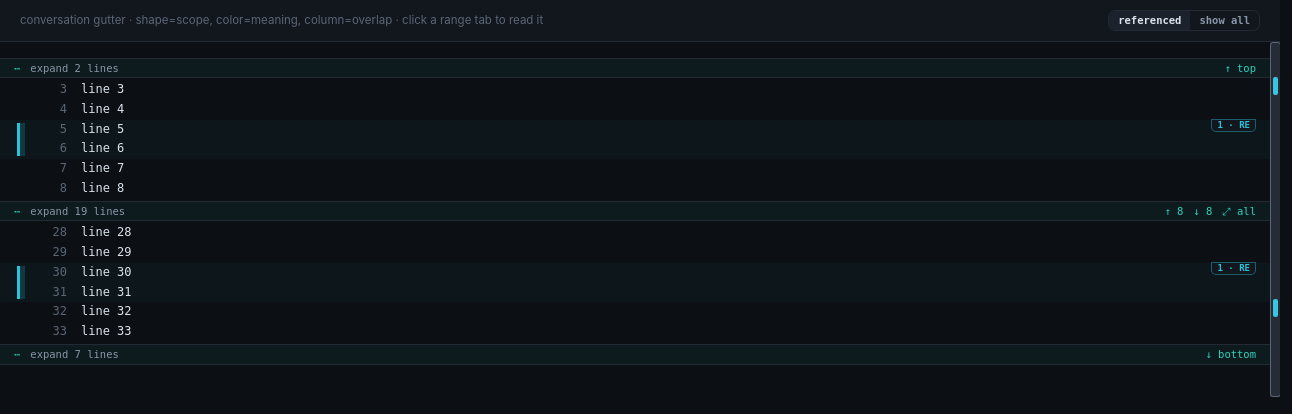
Test: CodeLens — piece 11 Phase 3: PR-style collapse › switching to a different file resets collapse state — no carried-over reveals or "show all"
The image size is (1292, 414).
Expected: the number of elements with test id "fold-row" is 3, [0,58,1270,78]; [0,201,1270,221]; [0,344,1270,365]
Click the button with test id "collapse-toggle-showall": click(1225, 20) [1190,11,1259,30]
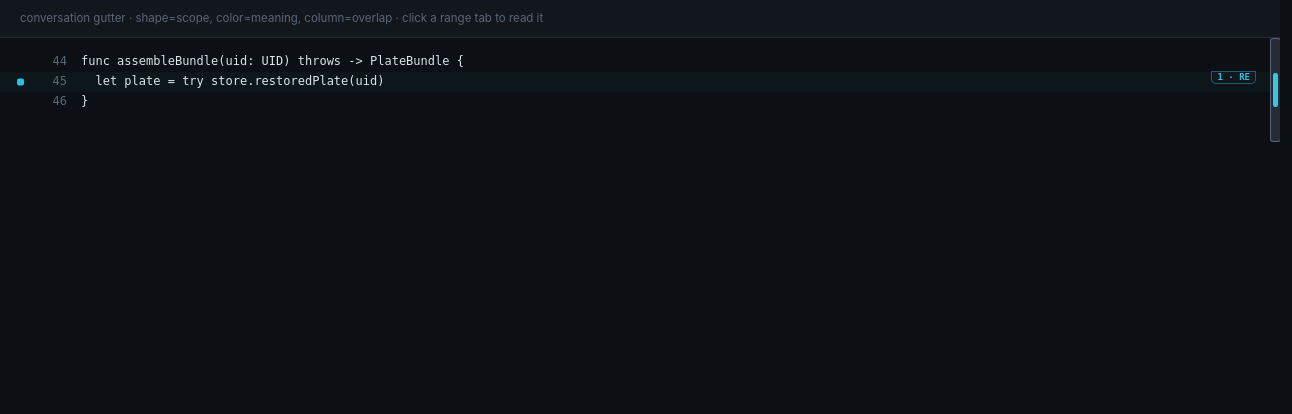
Expected: no elements with test id "fold-row" are shown
Expected: the element with test id "collapse-toggle" is gone
